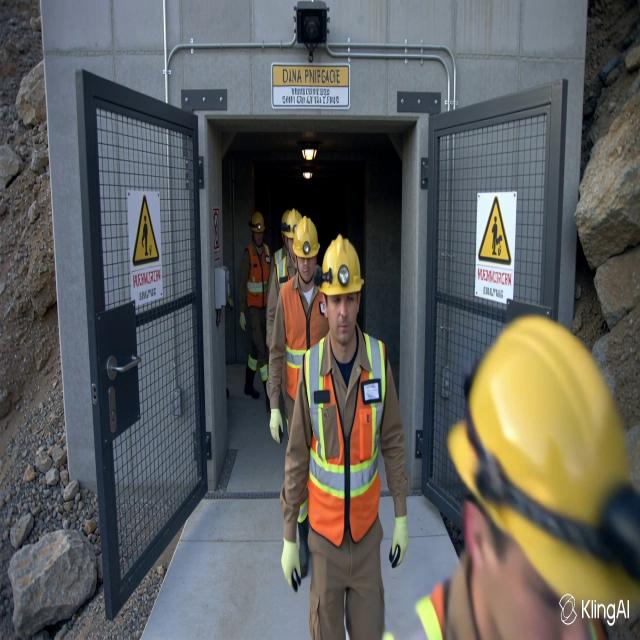Vest: (305, 334, 385, 546), (280, 280, 328, 399), (415, 584, 447, 639), (247, 243, 270, 308), (277, 256, 289, 288)
Worker: (384, 317, 639, 639), (281, 236, 408, 639), (268, 217, 328, 442), (240, 212, 271, 407), (267, 209, 301, 348)
helmet: (448, 317, 639, 603), (315, 235, 363, 295), (293, 216, 319, 258), (282, 208, 301, 238), (249, 211, 265, 233), (281, 210, 289, 231)
